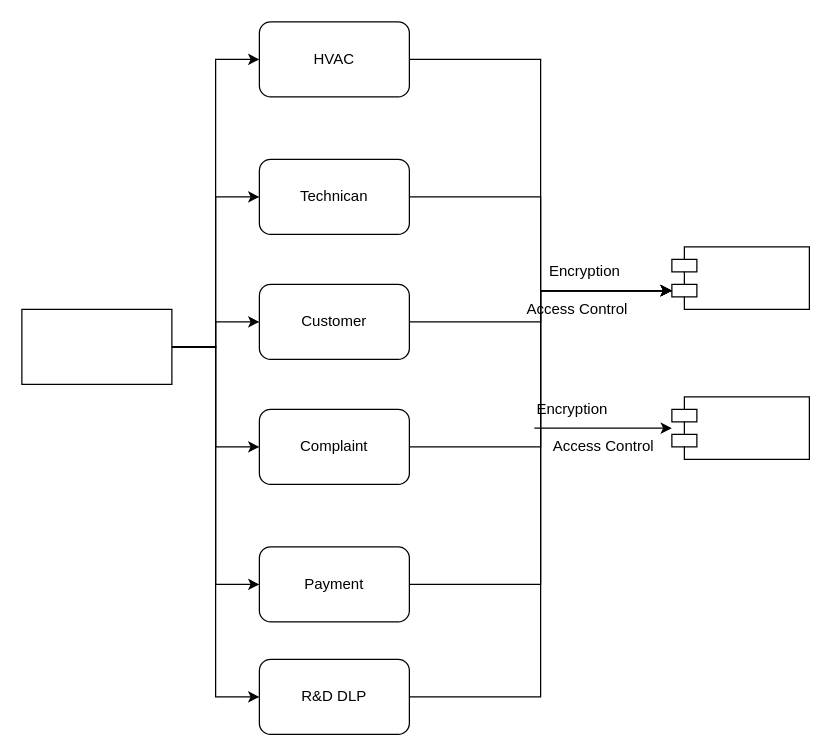
Image size: 831x756. Some labels were removed from this diagram. The shapes that lost their labels are listed below. From the top down, each one's box as (x1, y1, x2, y2) in pixels, then its label:
(671, 246, 809, 309): Security
(21, 308, 172, 384): RMCS
(671, 396, 809, 459): Persistance
